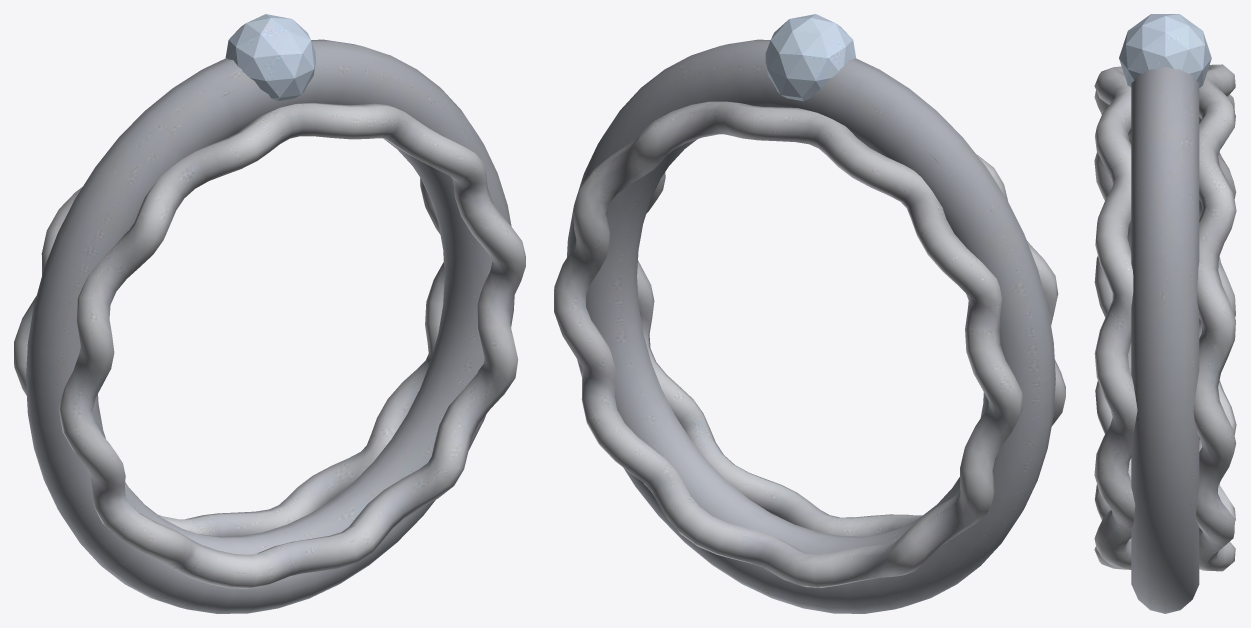
File: silver_band.glb
3 renders of one model, left to right at view 1: azimuth 30°, elevation 25°; view 2: azimuth 150°, elevation 25°; view 3: azimuth 270°, elevation 25°, orthographic. The views are drawn at different scales.
Parts seen in each view (by area): view 1: silver_band; view 2: silver_band; view 3: silver_band.
Part boxes in pixels (x1,y1,x2,y2): silver_band: (14,14,525,613); silver_band: (554,14,1065,613); silver_band: (1094,14,1236,613).
Bounding box in the file's own units: 0.07 × 0.0819 × 0.0184.
1 material, 1 textured.
